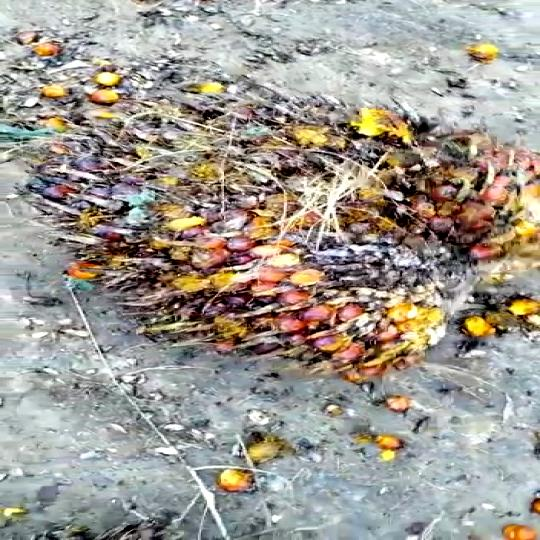masak: (44, 88, 540, 393)
